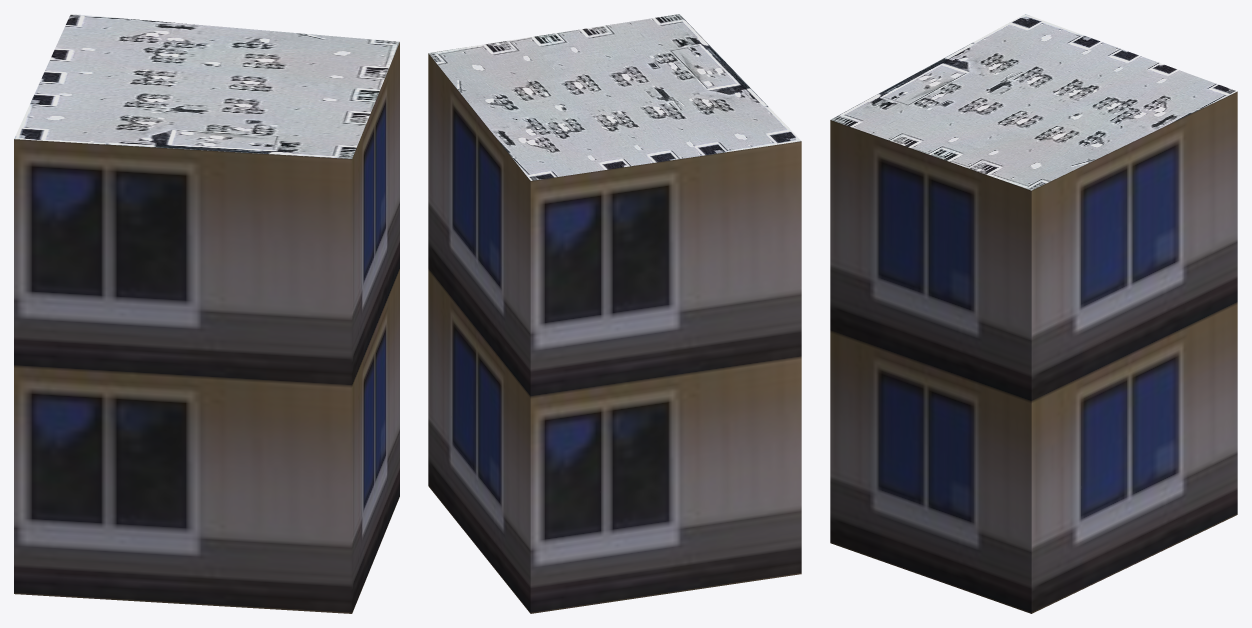
File: ResTex__183.fbx
The picture shows the model from 3 angles, left to right: view 1: azimuth 30°, elevation 25°; view 2: azimuth 150°, elevation 25°; view 3: azimuth 270°, elevation 25°; orthographic projection. The views are drawn at different scales.
Visible parts, largest first — view 1: CityEngineMaterial_5_m, CityEngineMaterial_4_m; view 2: CityEngineMaterial_5_m, CityEngineMaterial_4_m; view 3: CityEngineMaterial_5_m, CityEngineMaterial_4_m.
Part boxes in pixels (x1,y1,x2,y2): CityEngineMaterial_5_m: [14, 42, 399, 613]; CityEngineMaterial_4_m: [14, 14, 399, 158]; CityEngineMaterial_5_m: [428, 53, 801, 613]; CityEngineMaterial_4_m: [428, 14, 801, 180]; CityEngineMaterial_5_m: [830, 91, 1237, 613]; CityEngineMaterial_4_m: [830, 14, 1237, 190].
Bounding box in the file's own units: 5.37 × 6 × 5.23.
2 materials, 2 textured.
